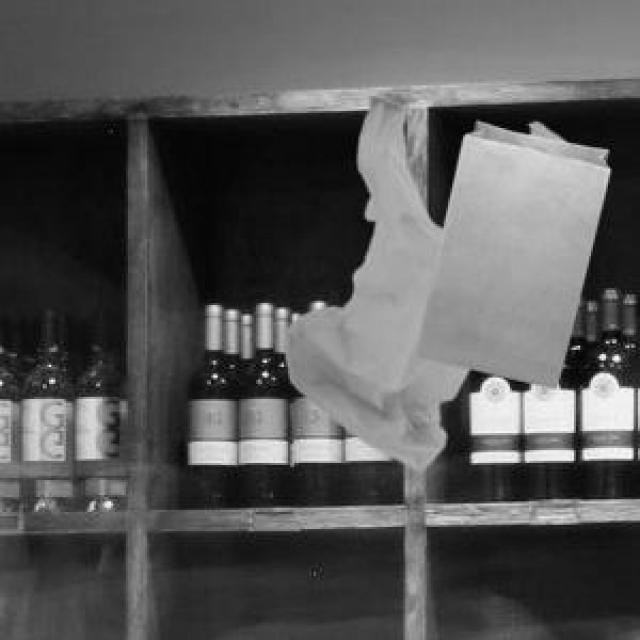paper: (412, 117, 606, 384)
